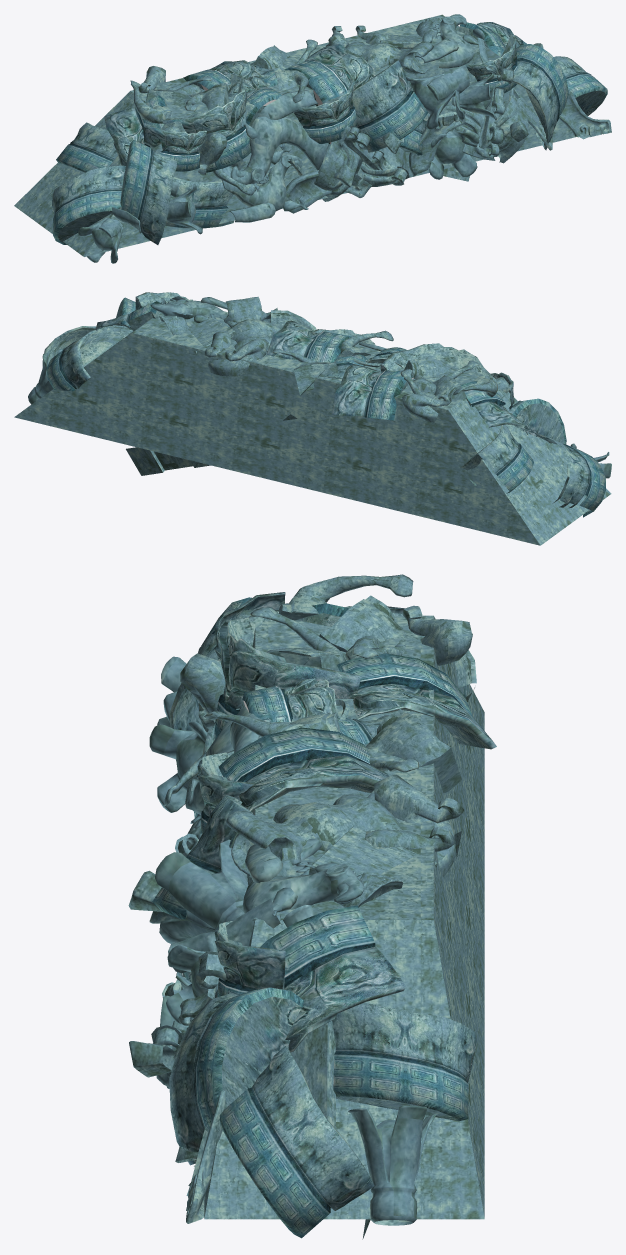
Rendered from 青铜器堆.FBX.
The picture shows the model from 3 angles, top to bottom: view 1: azimuth 30°, elevation 25°; view 2: azimuth 150°, elevation 25°; view 3: azimuth 270°, elevation 25°; orthographic projection. The views are drawn at different scales.
Visible parts, largest first — view 1: Cylinder007, Cylinder004, Box304, Box305, Cylinder006, Box05, 青铜鸟雕像035, Box303, 对象006, 青铜鸟雕像036, 对象002, Cylinder005 (+3 smaller); view 2: Box304, Cylinder007, Cylinder006, Box303, Cylinder004, Cylinder005, 对象004, 对象005, 对象001, Box05, 青铜鸟雕像034; view 3: Cylinder006, Box304, Cylinder004, Box303, 对象004, Cylinder005, 青铜鸟雕像035, Box05, 青铜鸟雕像034, 对象005, 对象001, Cylinder007 (+3 smaller).
Boxes of the visible parts, <box> form: Cylinder007: <box>52,95,233,244</box>; Cylinder004: <box>161,44,428,172</box>; Box304: <box>14,14,576,256</box>; Box305: <box>285,111,465,213</box>; Cylinder006: <box>458,22,607,150</box>; Box05: <box>425,66,611,181</box>; 青铜鸟雕像035: <box>405,37,496,179</box>; Box303: <box>164,18,441,175</box>; 对象006: <box>230,90,328,184</box>; 青铜鸟雕像036: <box>78,180,202,263</box>; 对象002: <box>222,154,308,222</box>; Cylinder005: <box>183,60,281,125</box>; Box304: <box>14,311,611,545</box>; Cylinder007: <box>460,372,605,517</box>; Cylinder006: <box>42,292,192,391</box>; Box303: <box>159,296,509,393</box>; Cylinder004: <box>266,310,492,379</box>; Cylinder005: <box>324,347,413,422</box>; 对象004: <box>204,332,497,396</box>; 对象005: <box>400,369,466,422</box>; 对象001: <box>150,297,236,327</box>; Box05: <box>112,325,210,475</box>; 青铜鸟雕像034: <box>28,298,166,404</box>; Cylinder006: <box>169,905,476,1238</box>; Box304: <box>204,615,484,1219</box>; Cylinder004: <box>152,610,388,982</box>; Box303: <box>180,607,437,907</box>; 对象004: <box>278,574,463,876</box>; Cylinder005: <box>241,653,496,749</box>; 青铜鸟雕像035: <box>155,839,282,1088</box>; Box05: <box>129,951,370,1239</box>; 青铜鸟雕像034: <box>283,905,438,1225</box>; 对象005: <box>164,595,472,805</box>; 对象001: <box>242,838,364,921</box>; Cylinder007: <box>169,592,476,818</box>.
Bounding box in the file's own units: 1493 × 450 × 432.
